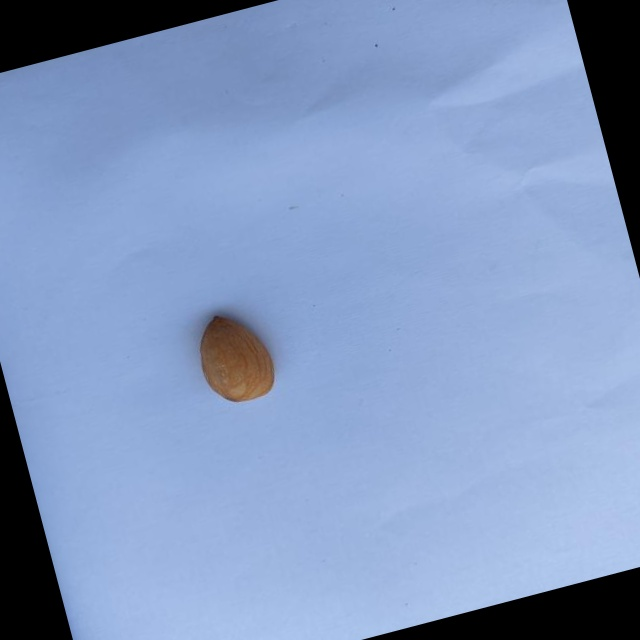grade2: (186, 301, 288, 414)
